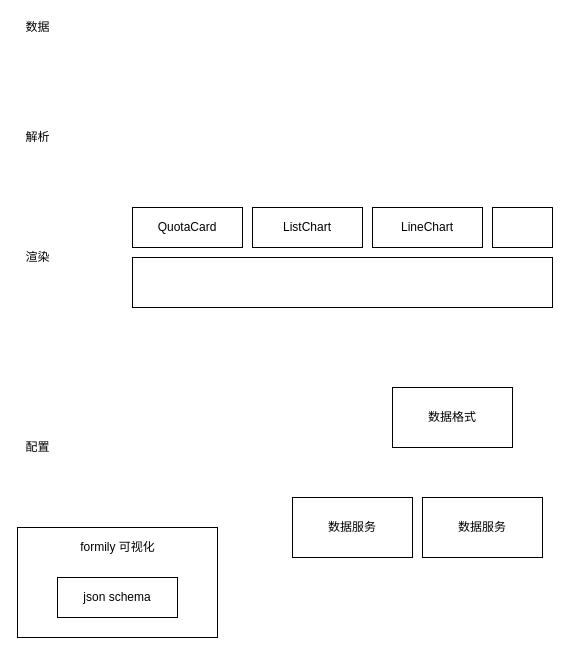
Some shapes in this 570 by 655 pixel diagram are drawn without their labels. The shapes that lost their labels are listed below. From the top down, each one's box as (x1, y1, x2, y2) in pixels, then its label:
(492, 206, 552, 248): 其他图表
(132, 256, 552, 308): KeCharts
